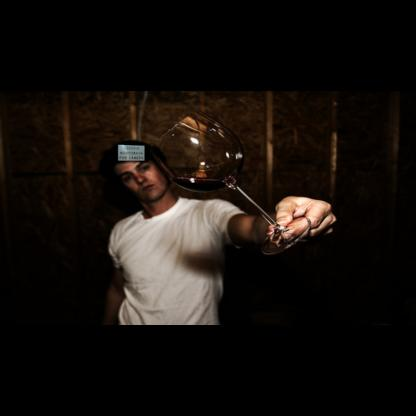I-E: (118, 145, 144, 160)
